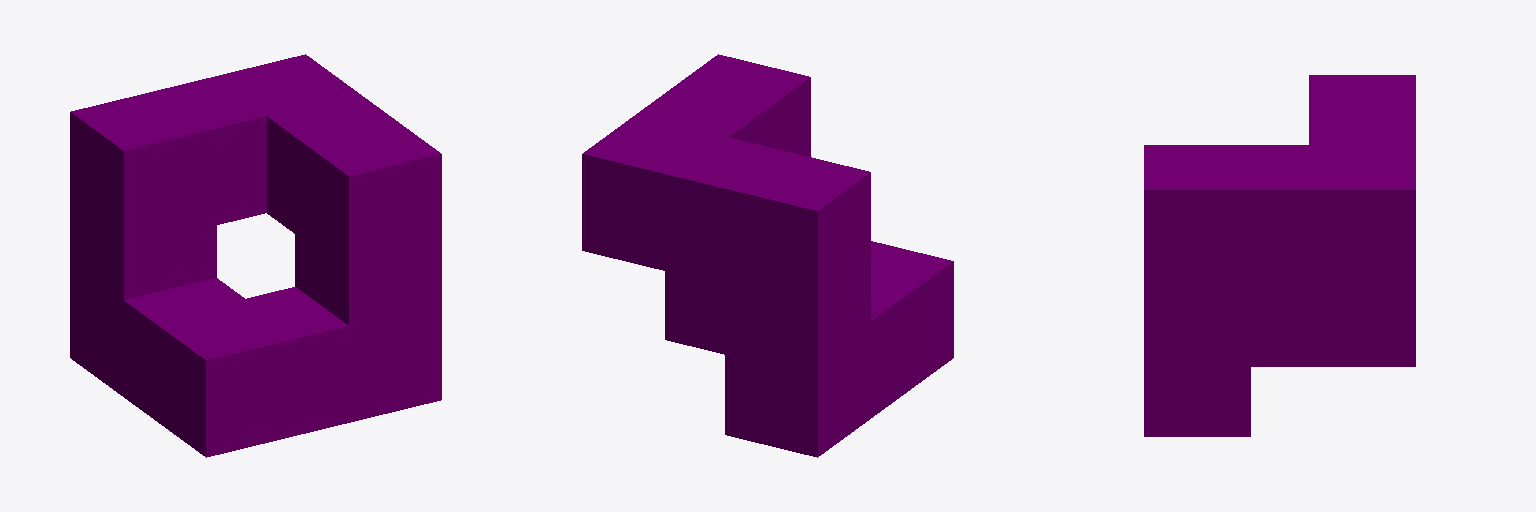
Rendered from capa2.obj.
3 renders of one model, left to right at view 1: azimuth 30°, elevation 25°; view 2: azimuth 150°, elevation 25°; view 3: azimuth 270°, elevation 25°, orthographic.
Bounding box in the file's own units: 2.34 × 2.34 × 2.34.